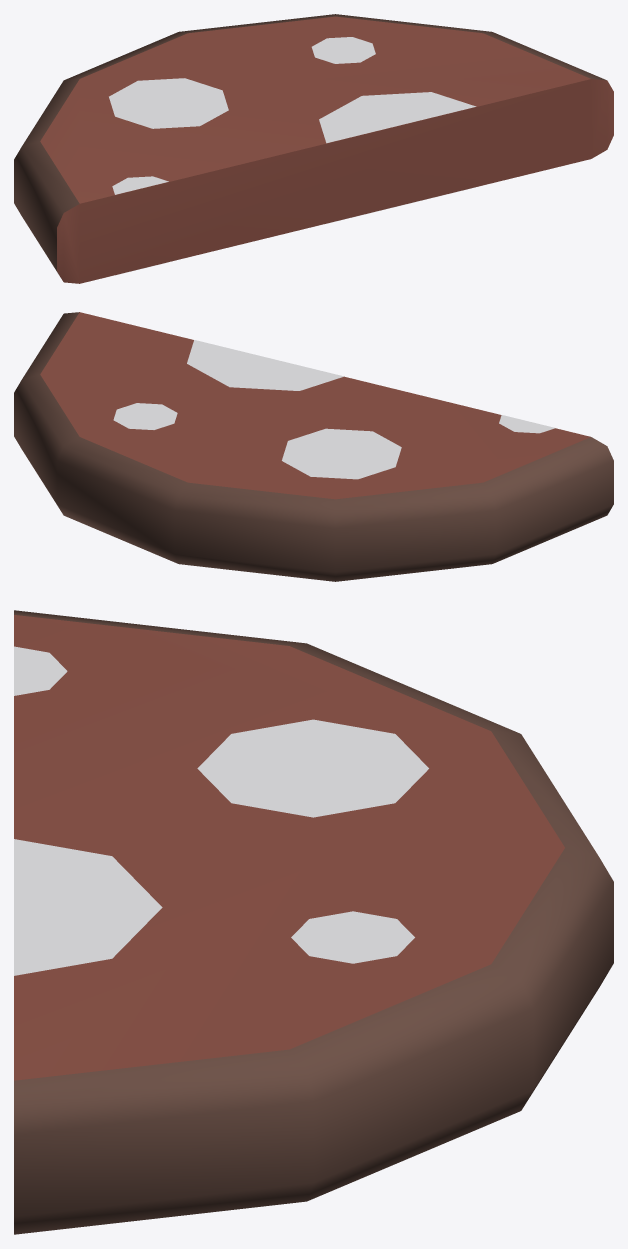
Rendered from Sausage_half.012.fbx.
The picture shows the model from 3 angles, top to bottom: view 1: azimuth 30°, elevation 25°; view 2: azimuth 150°, elevation 25°; view 3: azimuth 270°, elevation 25°; orthographic projection. The views are drawn at different scales.
Parts seen in each view (by area): view 1: Sausage_half.012; view 2: Sausage_half.012; view 3: Sausage_half.012.
Boxes of the visible parts, bbox=[...] form: Sausage_half.012: bbox=[14, 14, 613, 283]; Sausage_half.012: bbox=[14, 312, 613, 581]; Sausage_half.012: bbox=[14, 610, 613, 1234].
Size of the model in its own units: 66.24 by 33.12 by 9.16.
